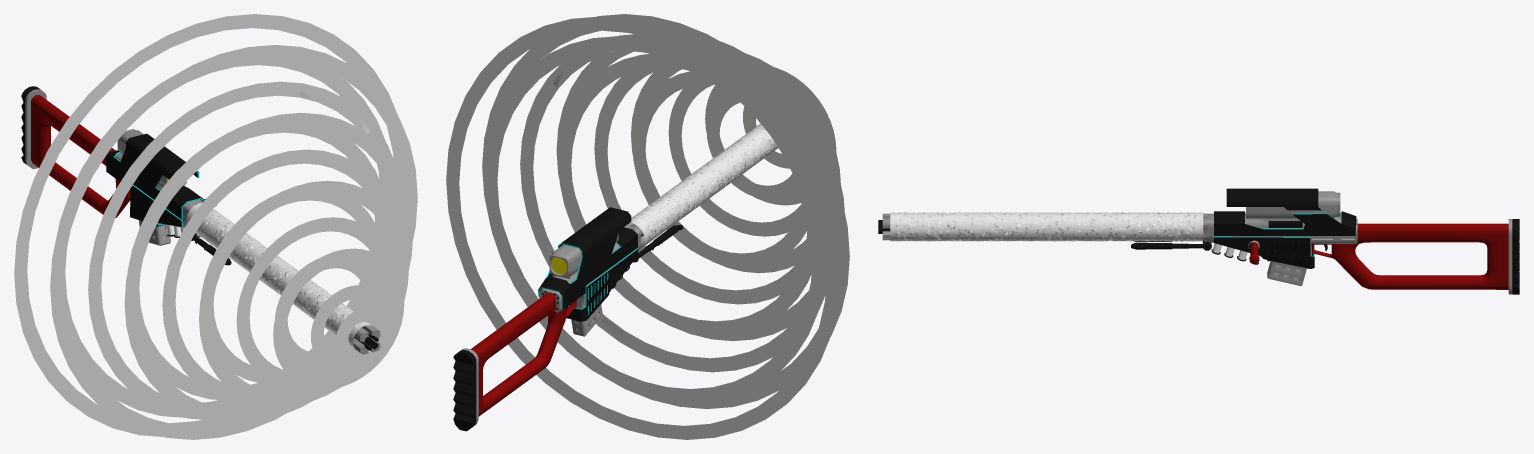
Rendered from GUNNN!.FBX.
3 renders of one model, left to right at view 1: azimuth 30°, elevation 25°; view 2: azimuth 150°, elevation 25°; view 3: azimuth 270°, elevation 25°, orthographic. The views are drawn at different scales.
Visible parts, largest first — view 1: Cylinder010, Gun, Cylinder009; view 2: Cylinder010, Gun, Cylinder009; view 3: Gun, Cylinder009.
Boxes of the visible parts, x1,y1,x2,y2 form: Cylinder010: (14, 14, 417, 439); Gun: (21, 86, 380, 354); Cylinder009: (186, 203, 379, 352); Cylinder010: (446, 14, 849, 439); Gun: (453, 207, 683, 431); Cylinder009: (630, 124, 777, 247); Gun: (878, 188, 1519, 294); Cylinder009: (890, 212, 1203, 241).
Bounding box in the file's own units: 773 × 771 × 1161.
